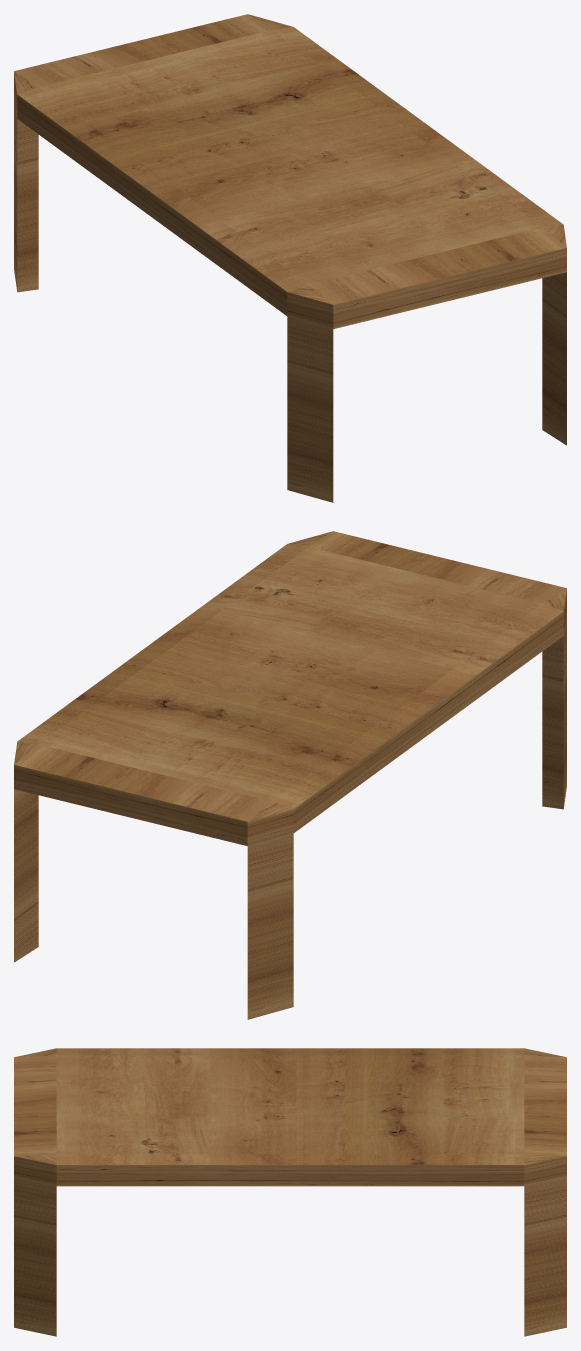
The model's file is table.fbx.
3 views of the same model, one above another, from view 1: azimuth 30°, elevation 25°; view 2: azimuth 150°, elevation 25°; view 3: azimuth 270°, elevation 25° (orthographic). The views are drawn at different scales.
Visible parts, largest first — view 1: Cube; view 2: Cube; view 3: Cube.
Boxes of the visible parts, x1,y1,x2,y2 form: Cube: [14, 14, 566, 502]; Cube: [14, 531, 566, 1019]; Cube: [14, 1048, 566, 1336].
Size of the model in its own units: 200 by 140 by 400.
1 material, 1 textured.
